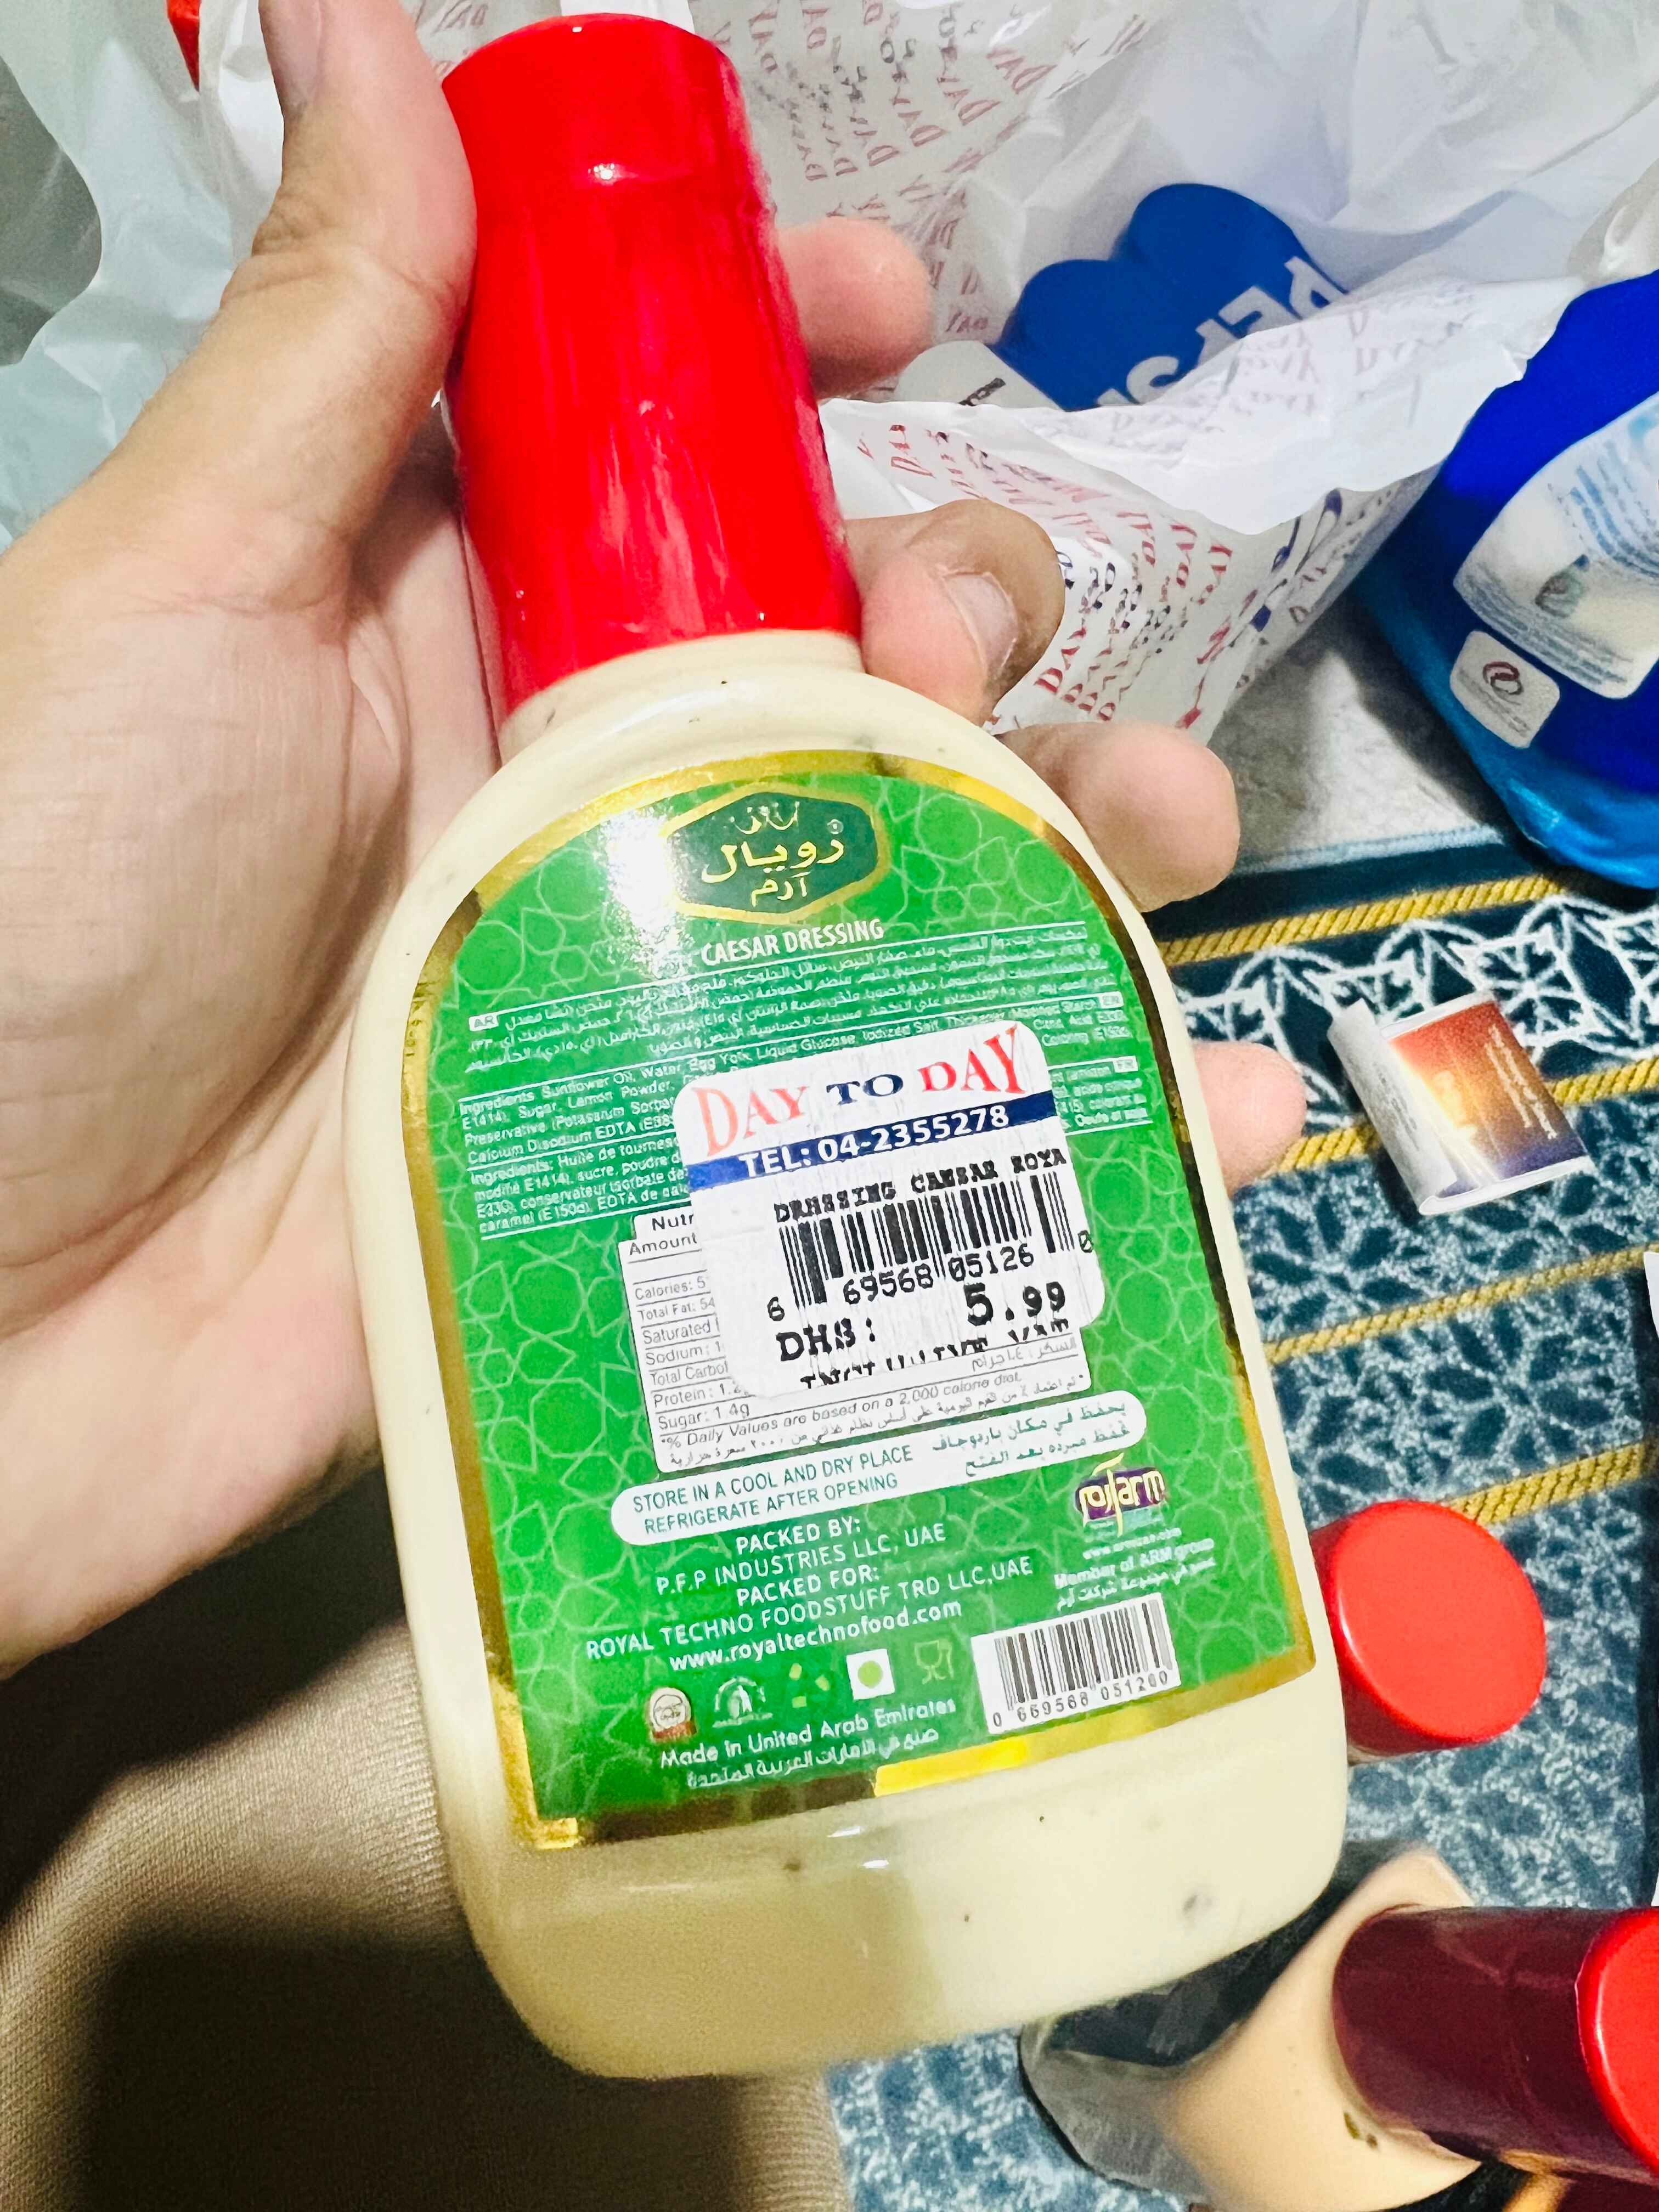PriceTagBig: (669, 1021, 1115, 1400)
